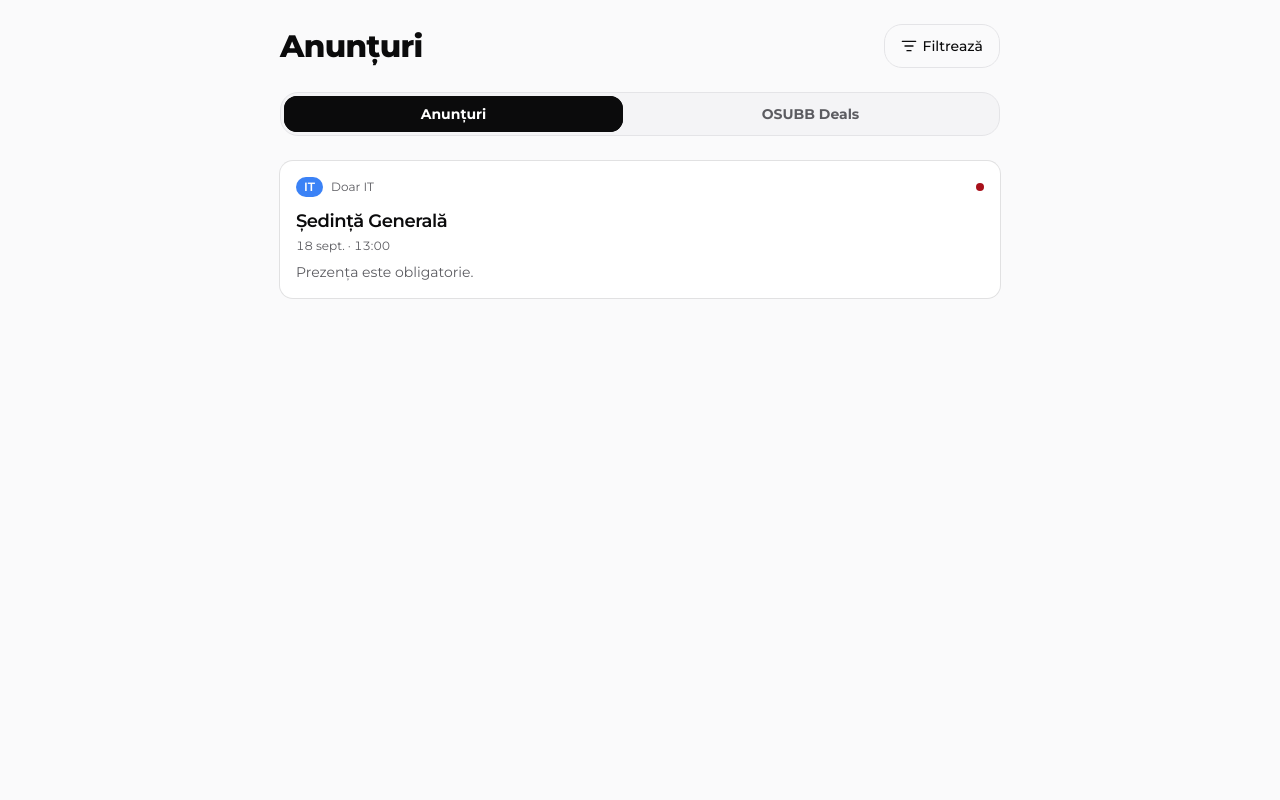
Test: AnnouncementsScreen › opens details sheet when a card is clicked and marks it as read
The width and height of the screenshot is (1280, 800).
Click the button with aria-label "Citește": [372, 220] box [296,211,447,229]
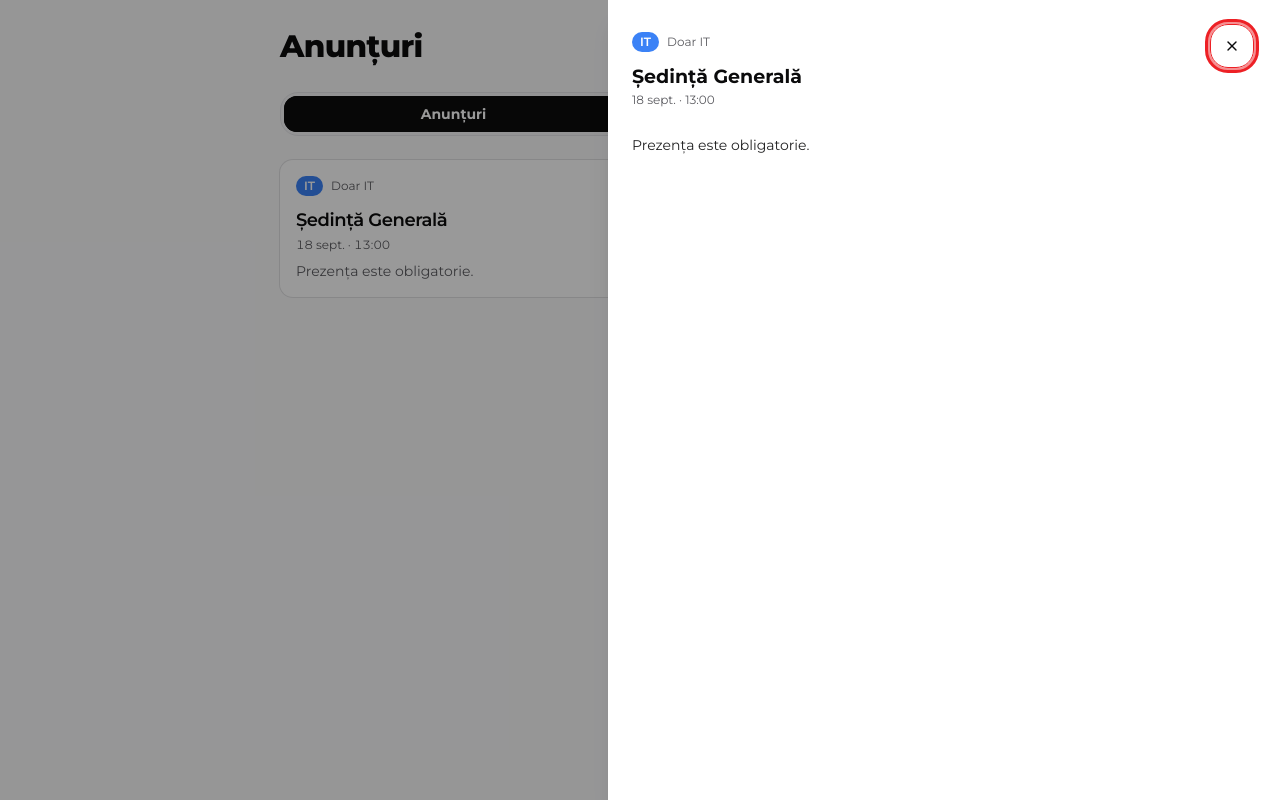
Expected: the text "Prezența este obligatorie." is shown, [632,136,810,154]
